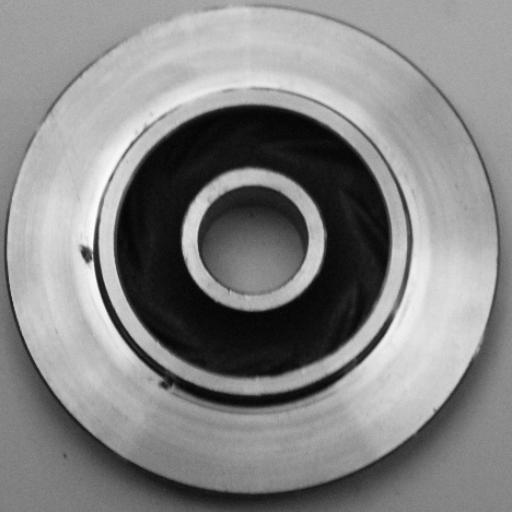crack: (144, 366, 191, 397), (72, 236, 106, 274)
scratch: (107, 0, 251, 49)
unpolished_casting: (8, 8, 500, 499)
